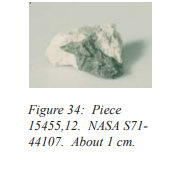Breccia: (44, 19, 131, 88)
